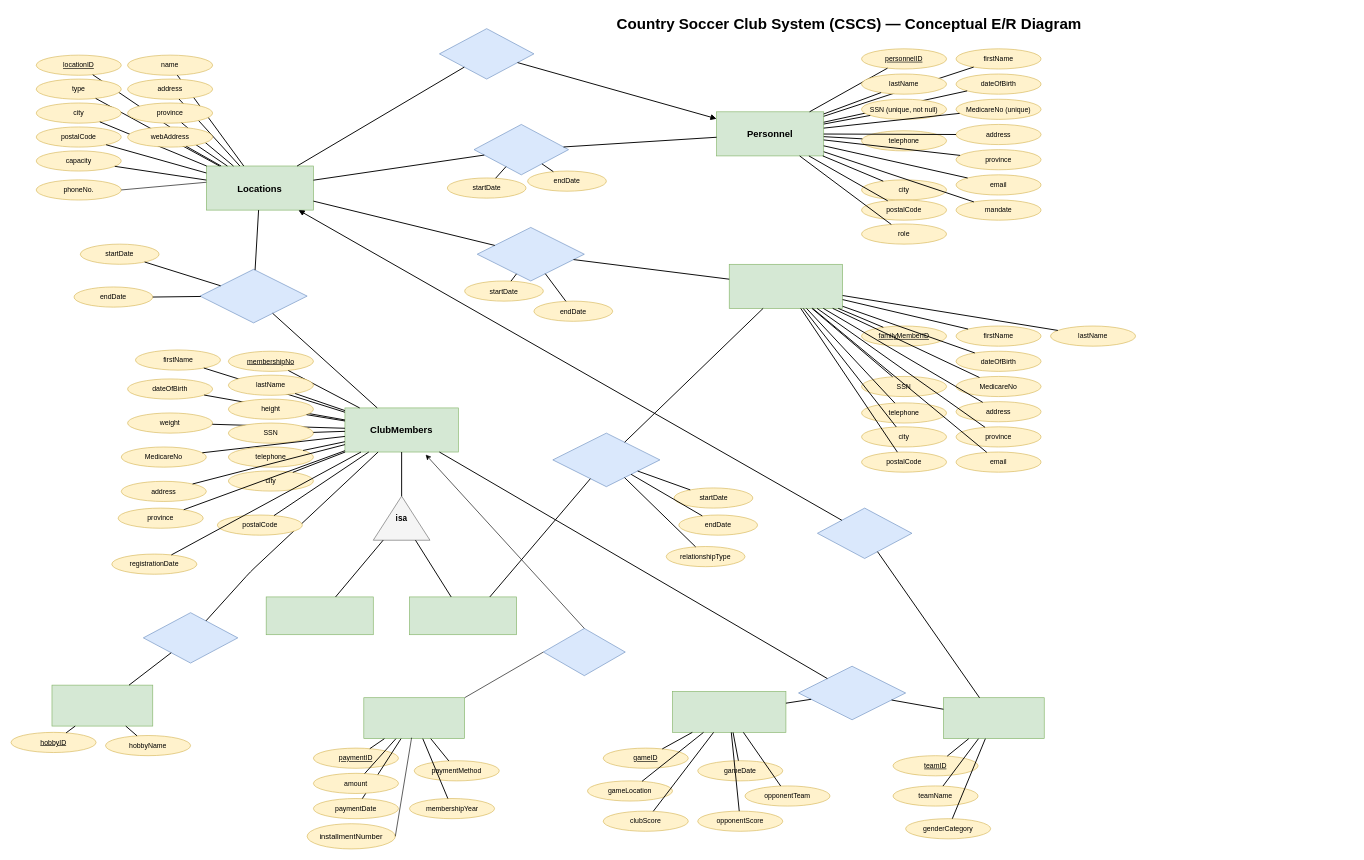
This 1364x860 diagram has some shape labels left out. Here are the shapes that lost their labels. From the top down, the centre of each, then its label:
the point at 486,53: Manages
the point at 521,149: WorksAt
the point at 530,254: FamilyAssignment
the point at 253,296: MemberAssignment
the point at 786,286: FamilyMembers
the point at 606,459: ResponsibleFor
the point at 864,532: BasedAt
the point at 319,615: MajorMembers
the point at 463,615: MinorMembers
the point at 190,637: HasHobby
the point at 584,652: Makes
the point at 102,705: Hobbies
the point at 729,711: FIFA_Games
the point at 852,693: ParticipatesIn
the point at 414,718: Payments
the point at 993,718: Teams
